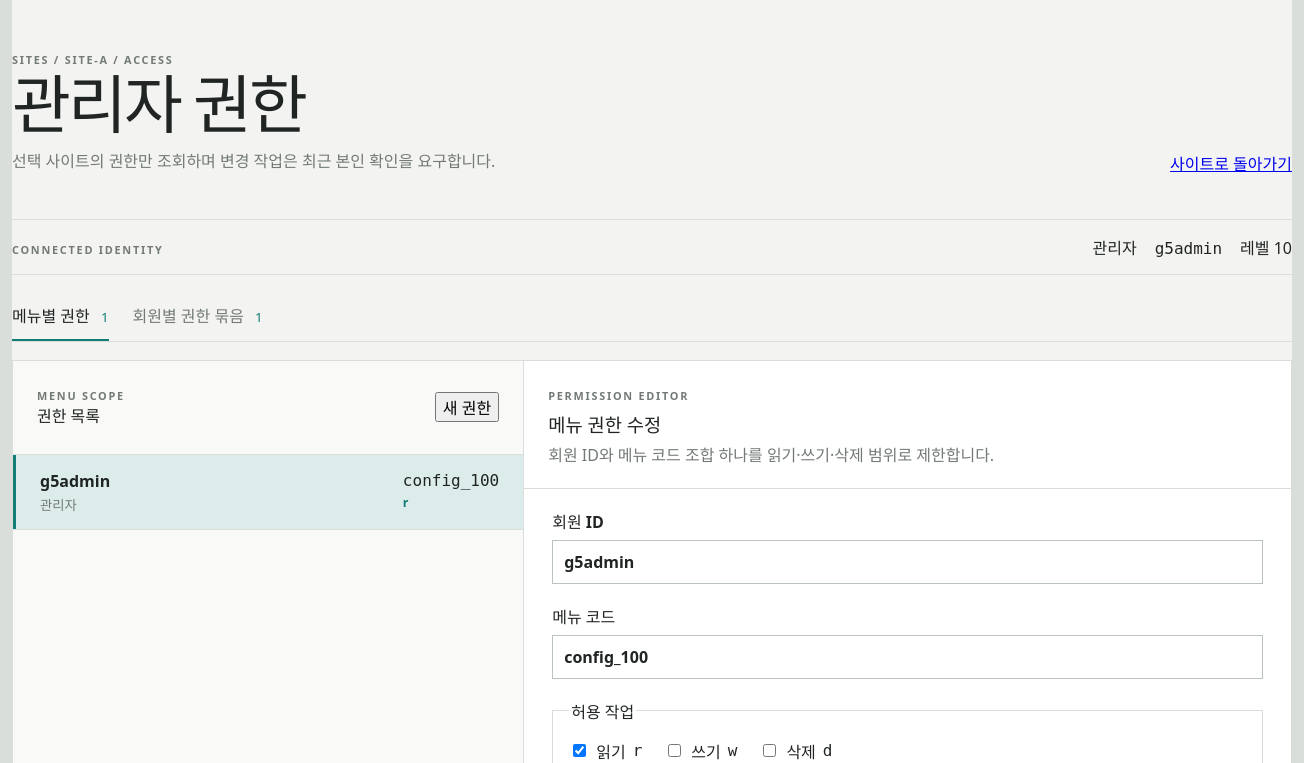
Test: AdminPermissionsWorkspacePage › normalizes, saves and reads a menu permission back
This screenshot has width=1304, height=763.
Expected: the field showing "config_100" is shown, [552,635,1263,679]
Click the checkbox labelled "쓰기 w".
click(675, 751)  # box [668,744,681,758]
(page scrolled)
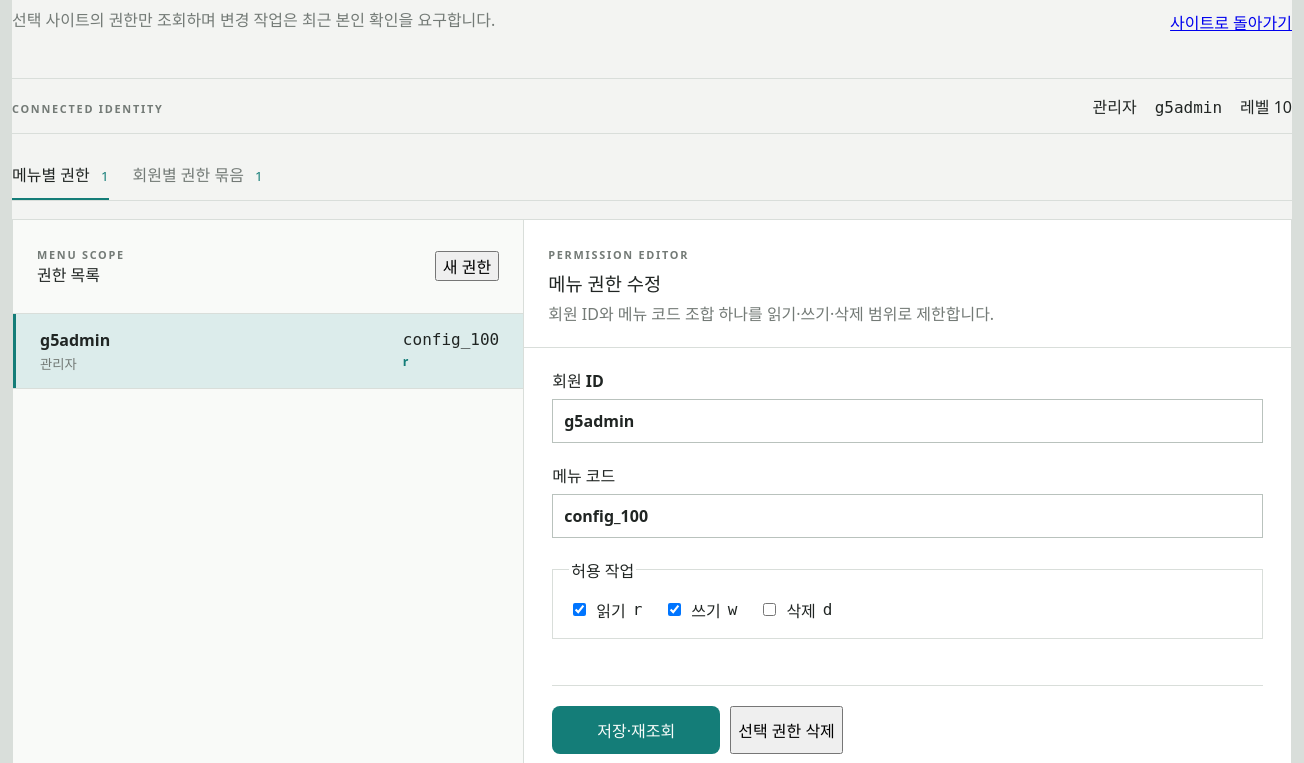
Click the button "저장·재조회".
click(636, 730)  # box [552,706,720,754]
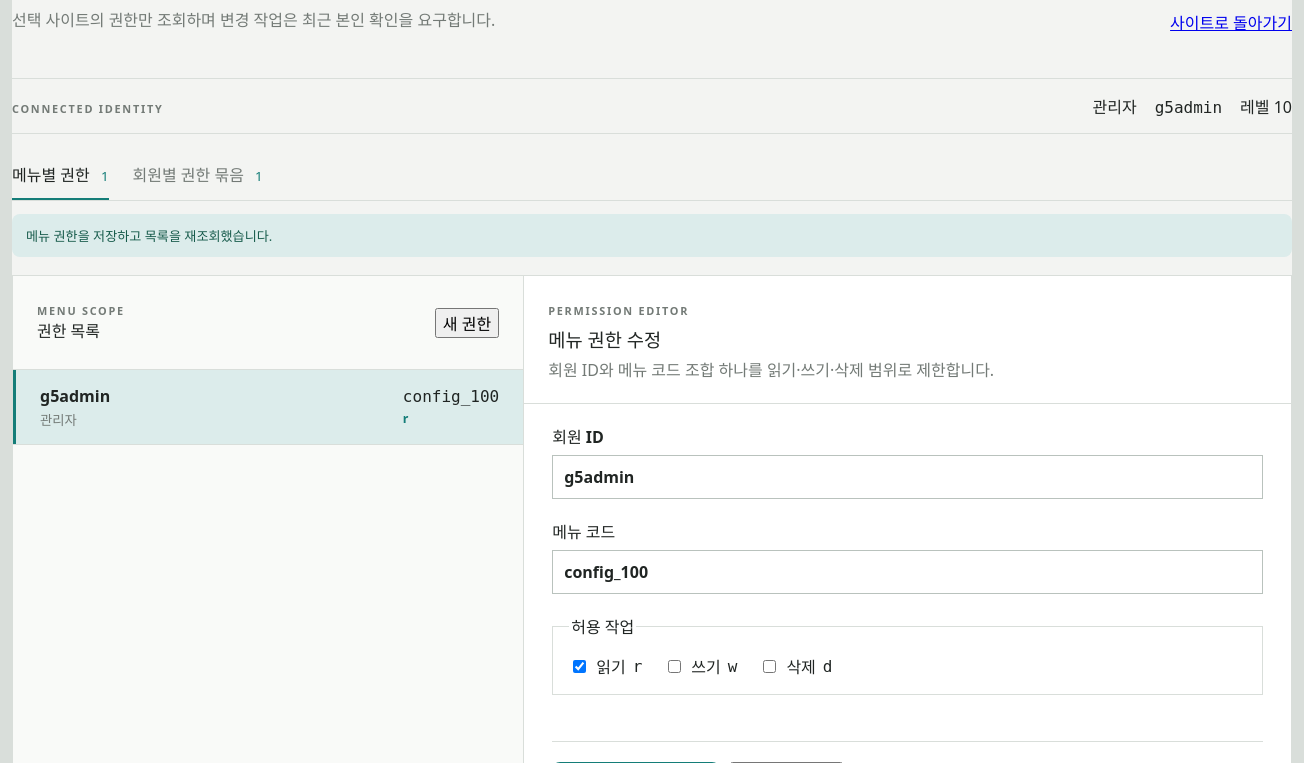
Result: the text "메뉴 권한을 저장하고 목록을 재조회했습니다." is shown at [12,214,1292,257]
